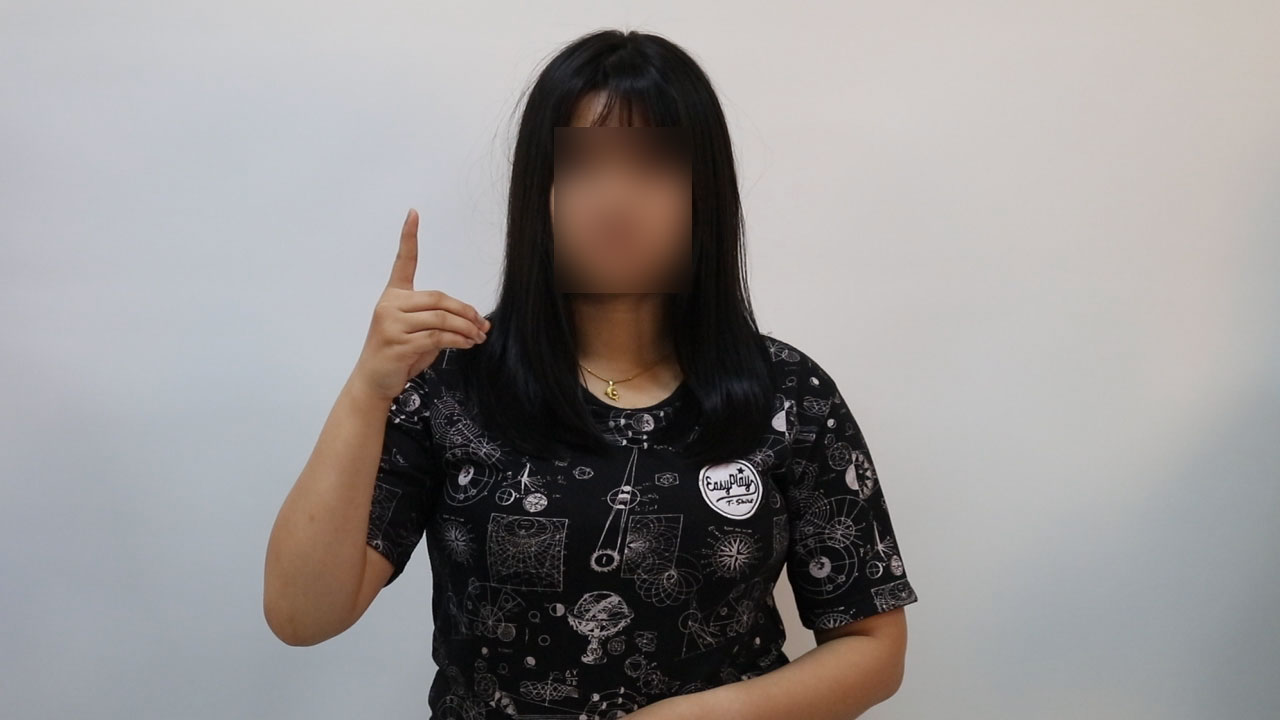dor: (338, 200, 498, 397)
